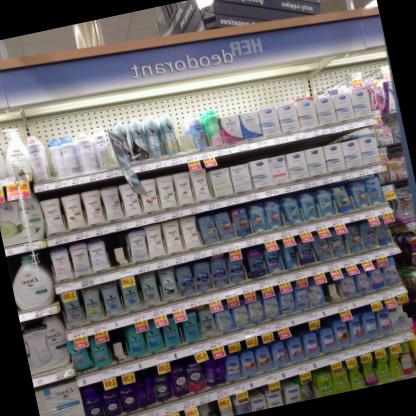empty_space: (106, 233, 132, 271), (107, 330, 130, 366), (324, 280, 343, 308)
